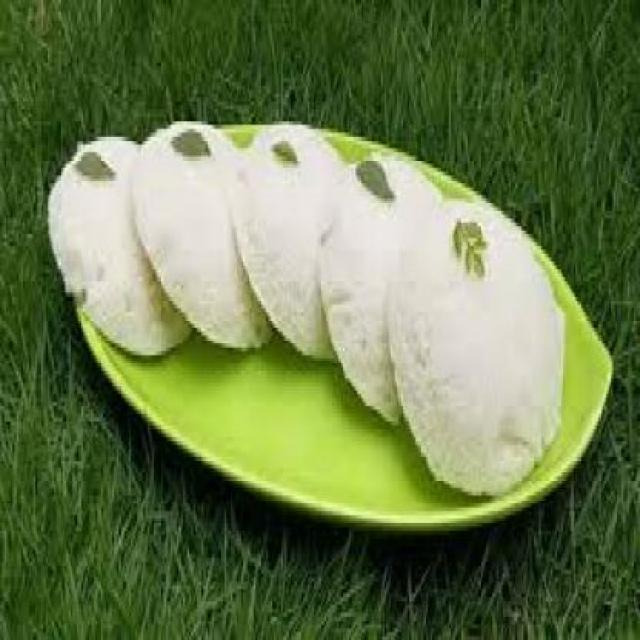idli: (388, 198, 566, 492), (320, 154, 442, 423), (132, 121, 271, 348), (49, 138, 194, 354), (236, 123, 346, 360)
